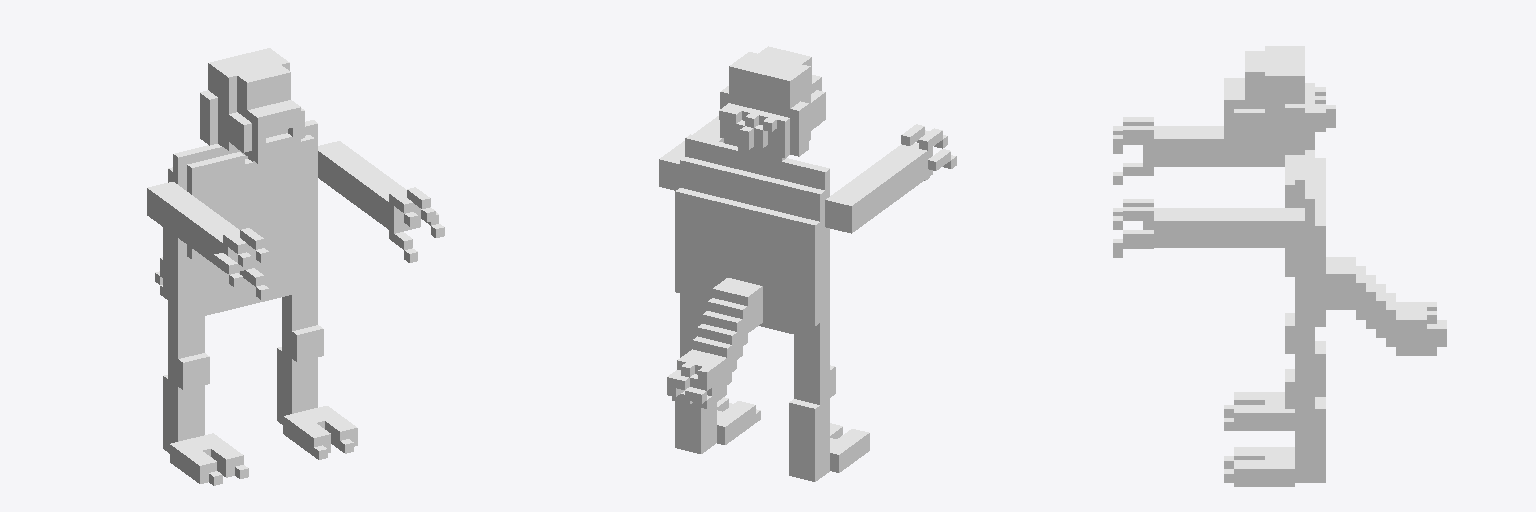
File: Тварь1.obj
The picture shows the model from 3 angles: view 1: azimuth 30°, elevation 25°; view 2: azimuth 150°, elevation 25°; view 3: azimuth 270°, elevation 25°; orthographic projection.
Parts seen in each view (by area): view 1: object 1; view 2: object 1; view 3: object 1.
Boxes of the visible parts, x1=… form: object 1: x1=147, y1=48, x2=444, y2=485; object 1: x1=659, y1=46, x2=956, y2=481; object 1: x1=1113, y1=46, x2=1446, y2=486.
Bounding box in the file's own units: 2.4 × 4.2 × 3.3.